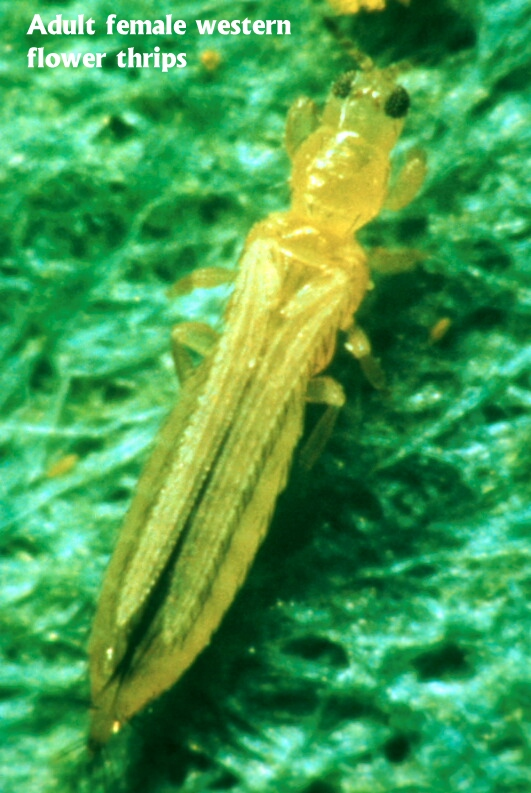Thrips: (71, 70, 429, 736)
